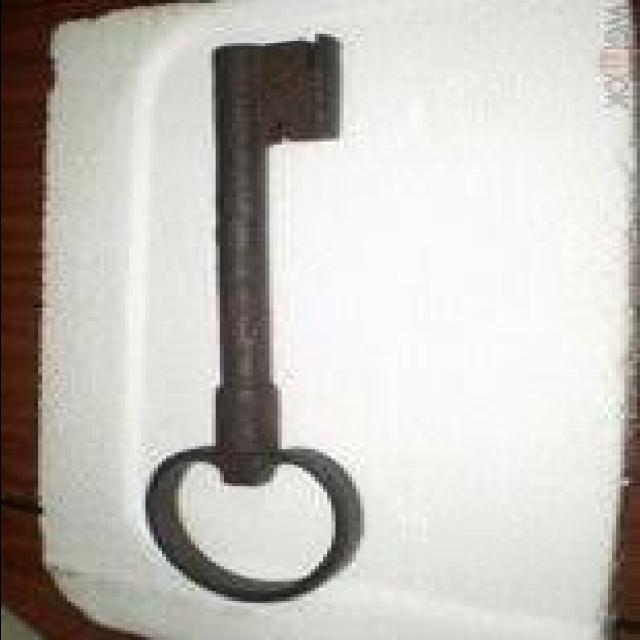key: (141, 21, 406, 621)
